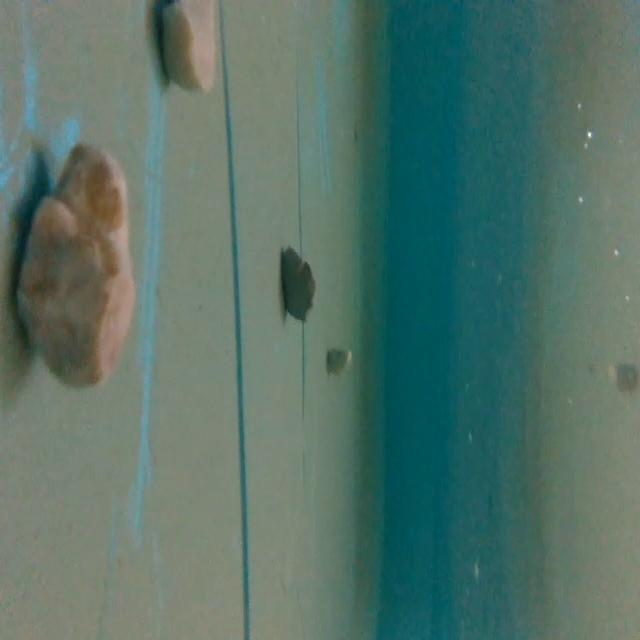rock: (10, 144, 148, 390), (149, 0, 219, 92), (275, 242, 319, 328), (322, 344, 354, 376)
